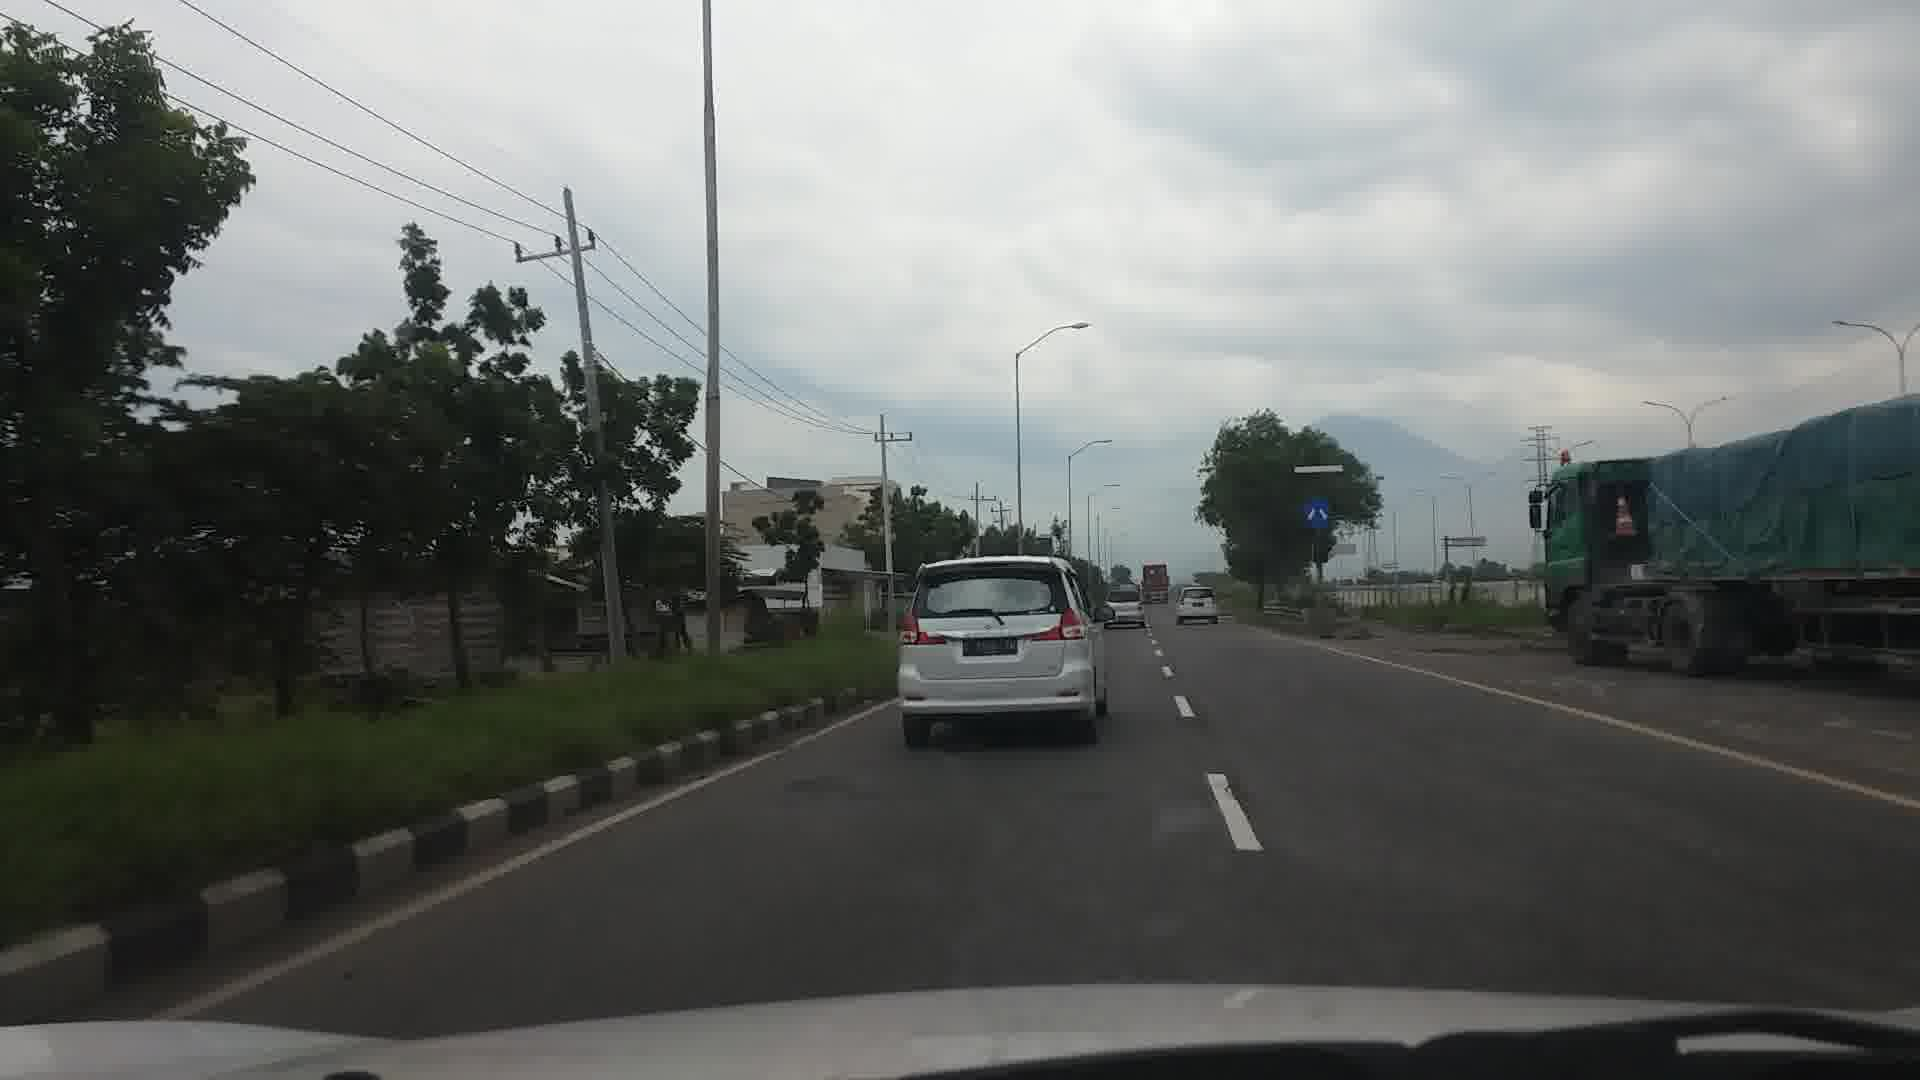plate_positive: (963, 638, 1018, 655)
